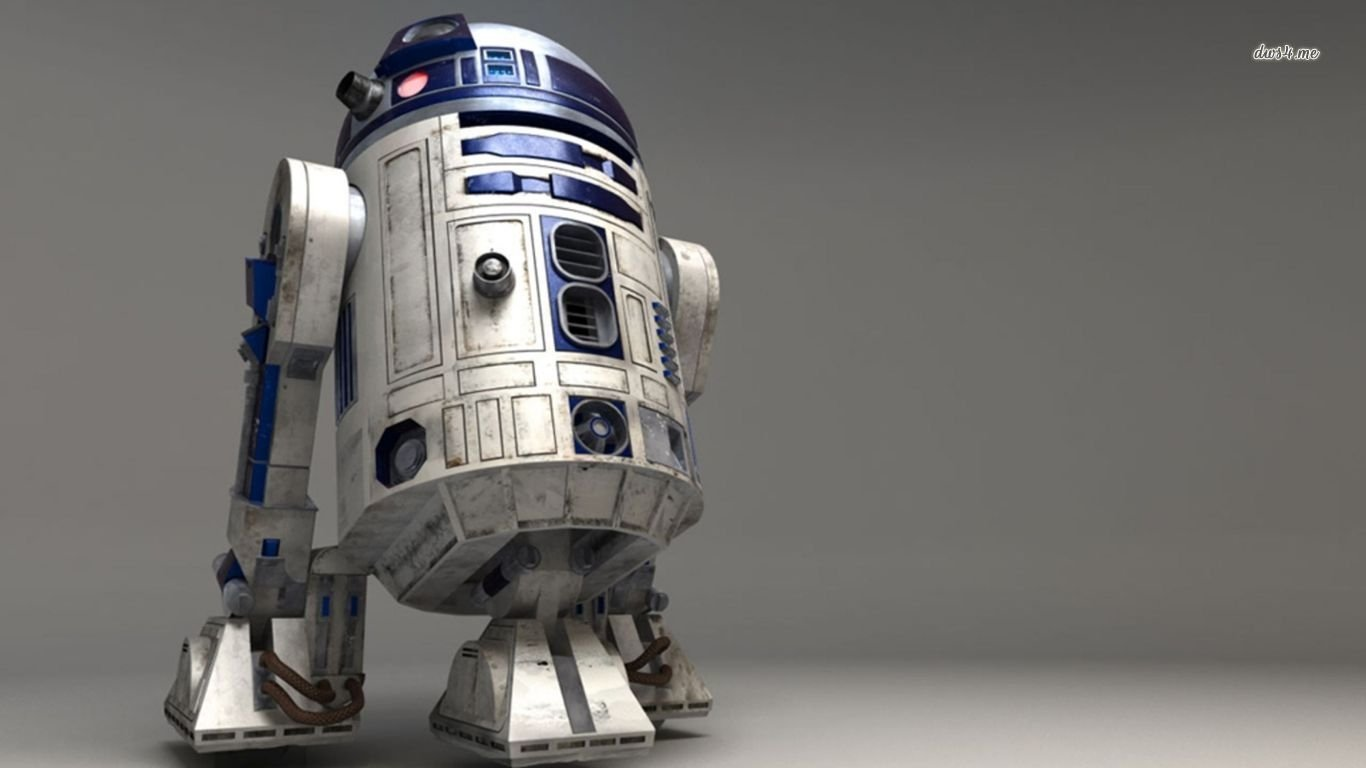r2d2: (181, 12, 725, 754)
